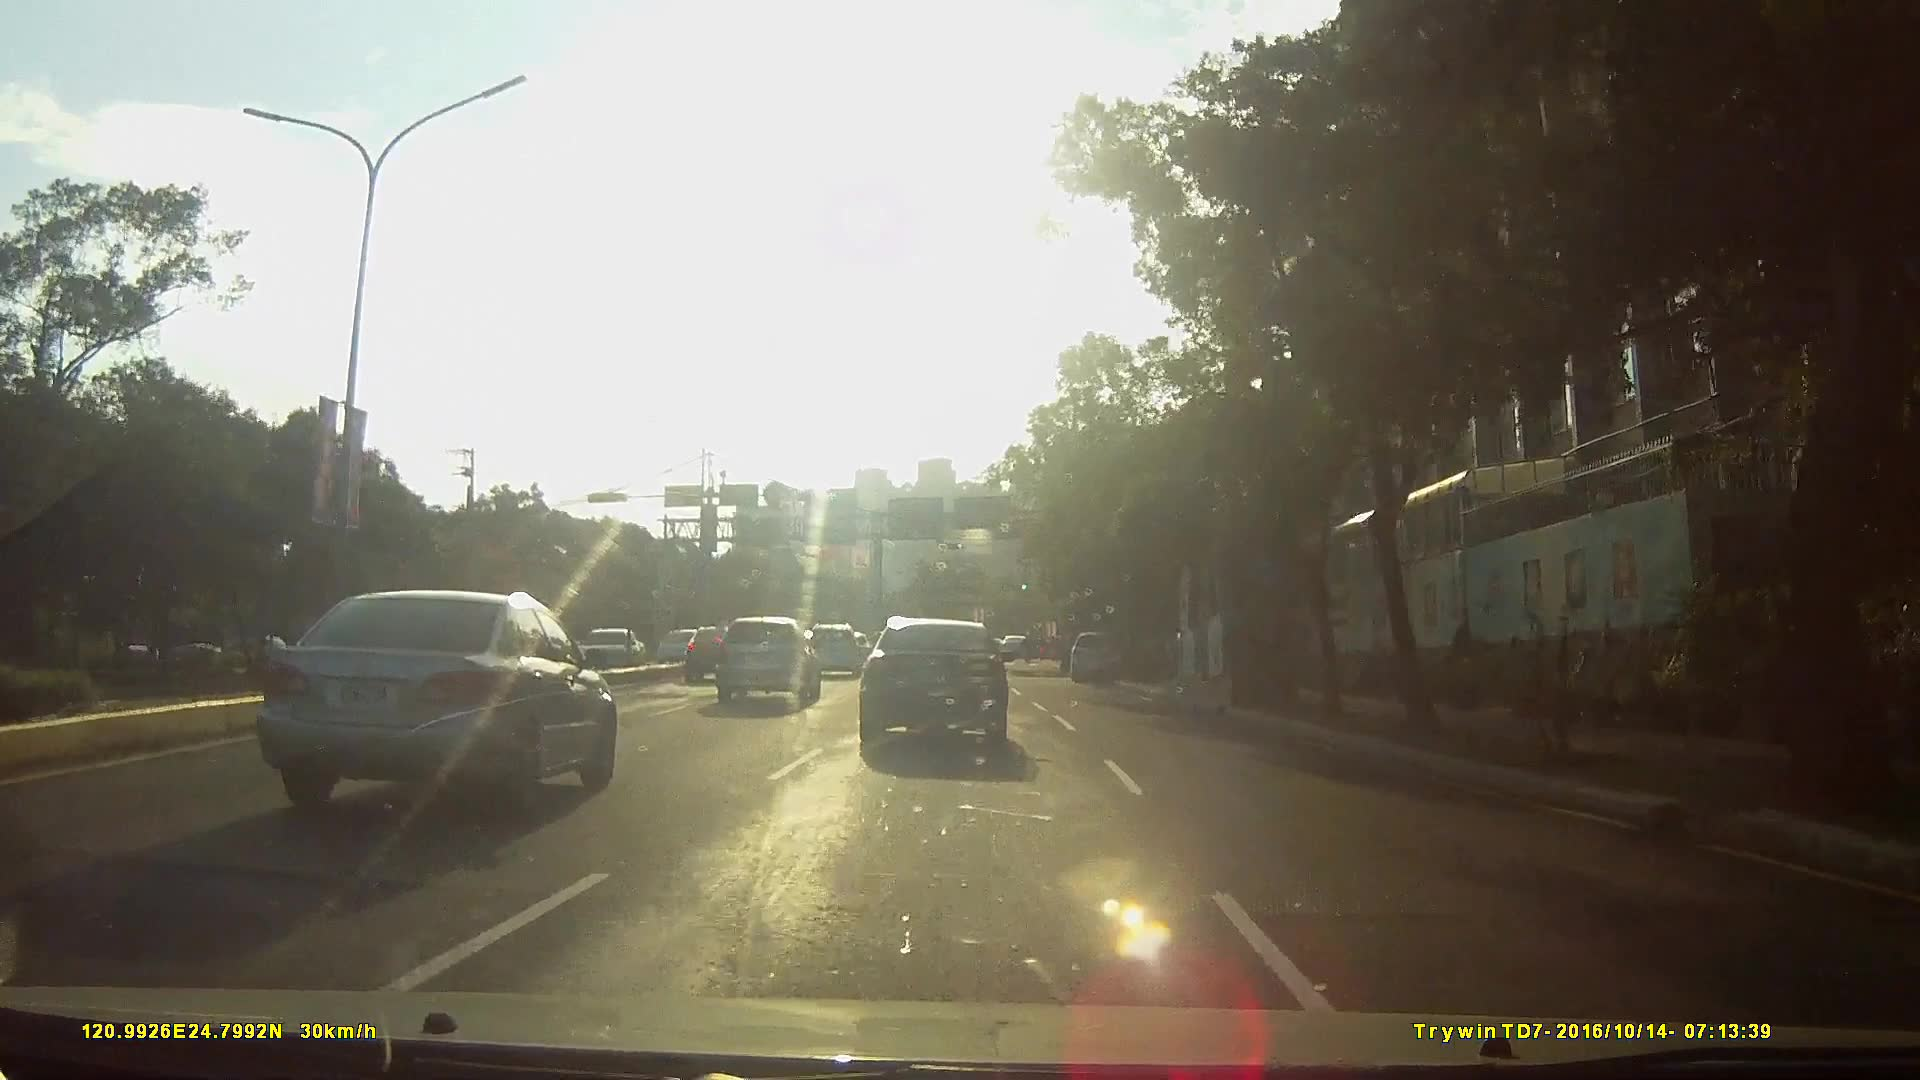vehicle: (233, 582, 632, 828), (858, 609, 1034, 760), (713, 613, 822, 707), (566, 618, 655, 673), (669, 621, 740, 682), (800, 621, 864, 676), (1065, 628, 1125, 680), (654, 626, 708, 665)
